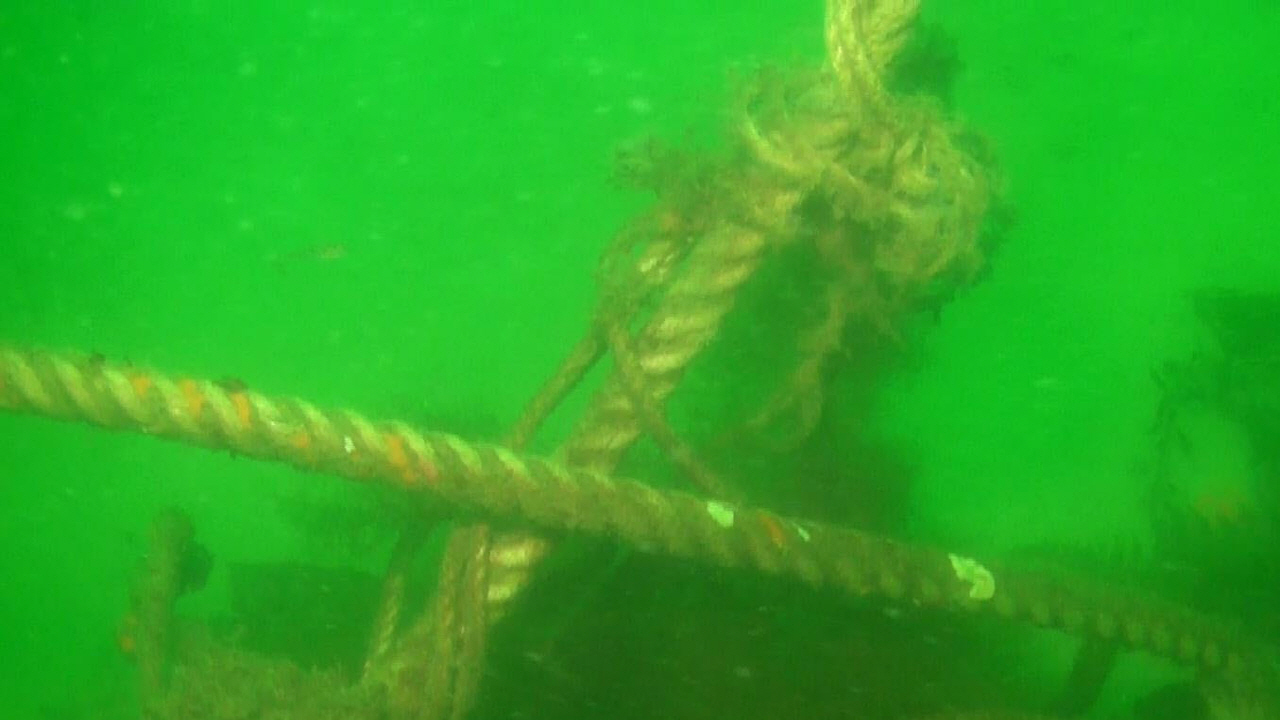bundle of ropes: (358, 0, 923, 720)
rope: (0, 349, 1249, 679)
